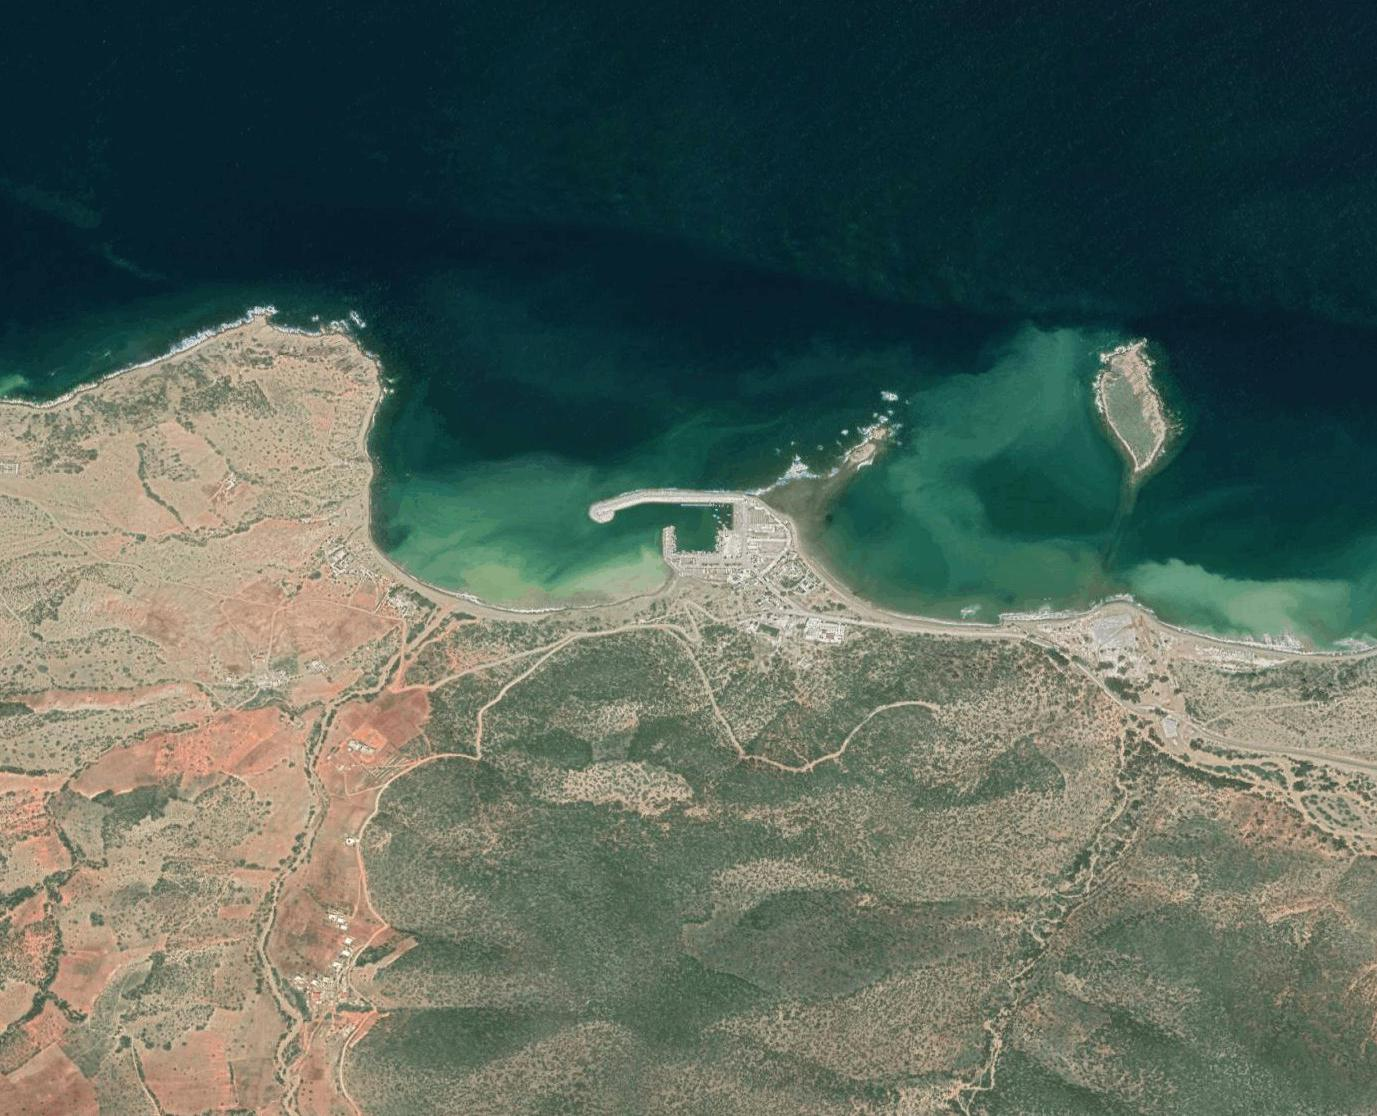harbor: (589, 466, 817, 583)
